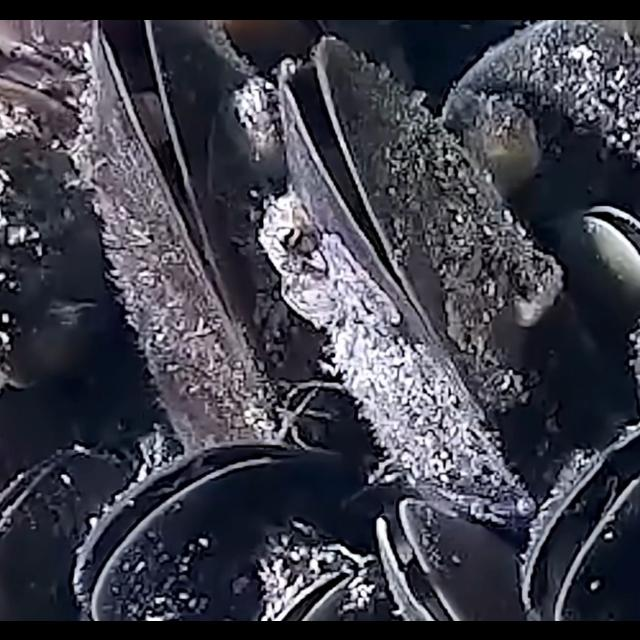Oyster-Closed: (432, 19, 640, 290), (0, 132, 96, 390)
Oyster-Open: (257, 36, 573, 526), (73, 19, 337, 455), (70, 438, 344, 620), (519, 422, 640, 620), (0, 444, 134, 620), (372, 496, 528, 620), (0, 36, 92, 140), (571, 200, 640, 287), (267, 562, 355, 620)
